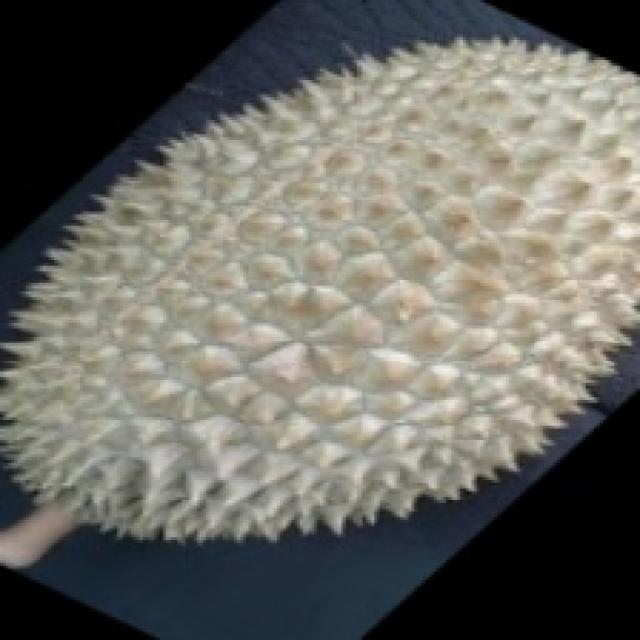d2: (0, 52, 640, 574)
